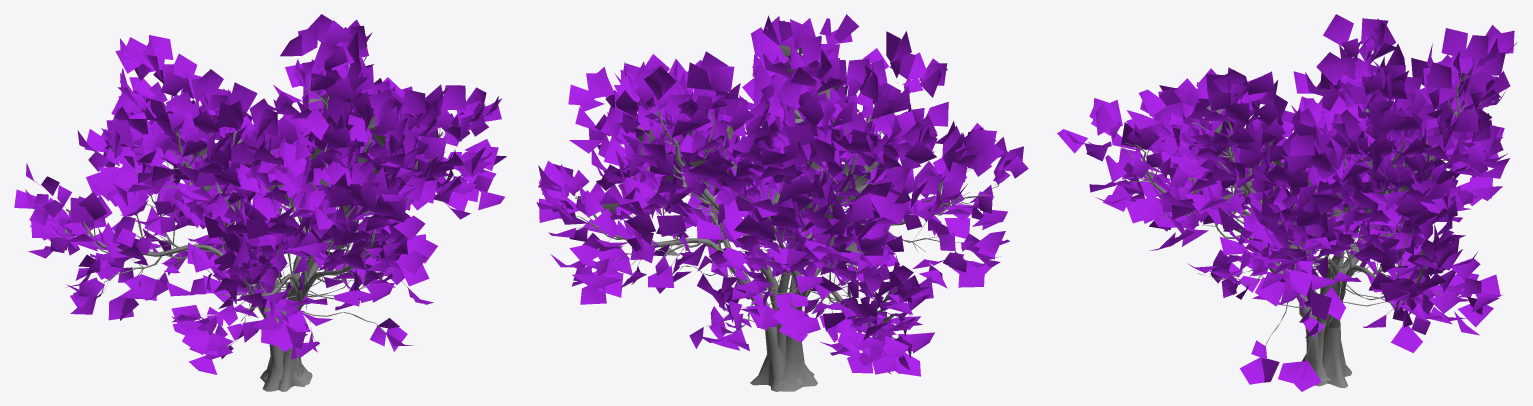
Rendered from SM_Tree_0_1_Last.fbx.
3 renders of one model, left to right at view 1: azimuth 30°, elevation 25°; view 2: azimuth 150°, elevation 25°; view 3: azimuth 270°, elevation 25°, orthographic. The views are drawn at different scales.
Visible parts, largest first — view 1: SM_Tree_0_1_LOD1; view 2: SM_Tree_0_1_LOD1; view 3: SM_Tree_0_1_LOD1.
Part boxes in pixels (x1=…): SM_Tree_0_1_LOD1: x1=14, y1=14, x2=506, y2=391; SM_Tree_0_1_LOD1: x1=536, y1=14, x2=1028, y2=391; SM_Tree_0_1_LOD1: x1=1057, y1=14, x2=1517, y2=391.
Size of the model in its own units: 19.19 by 14.11 by 17.83.
